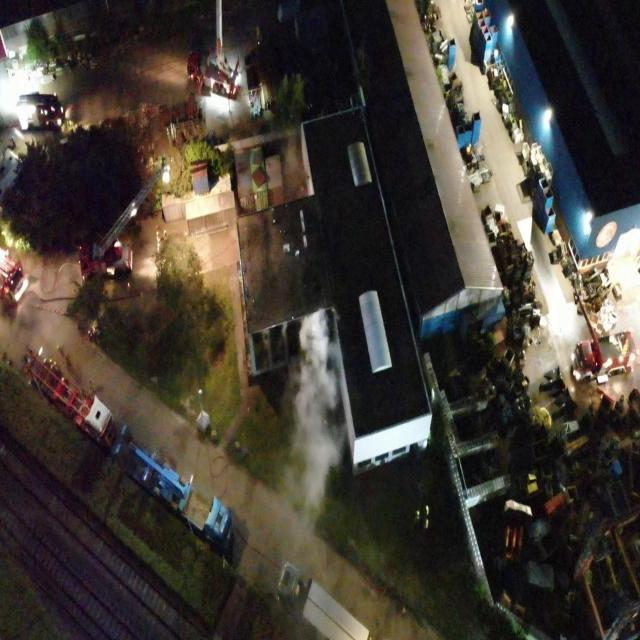Smoke: (276, 308, 348, 558), (280, 132, 308, 202)
